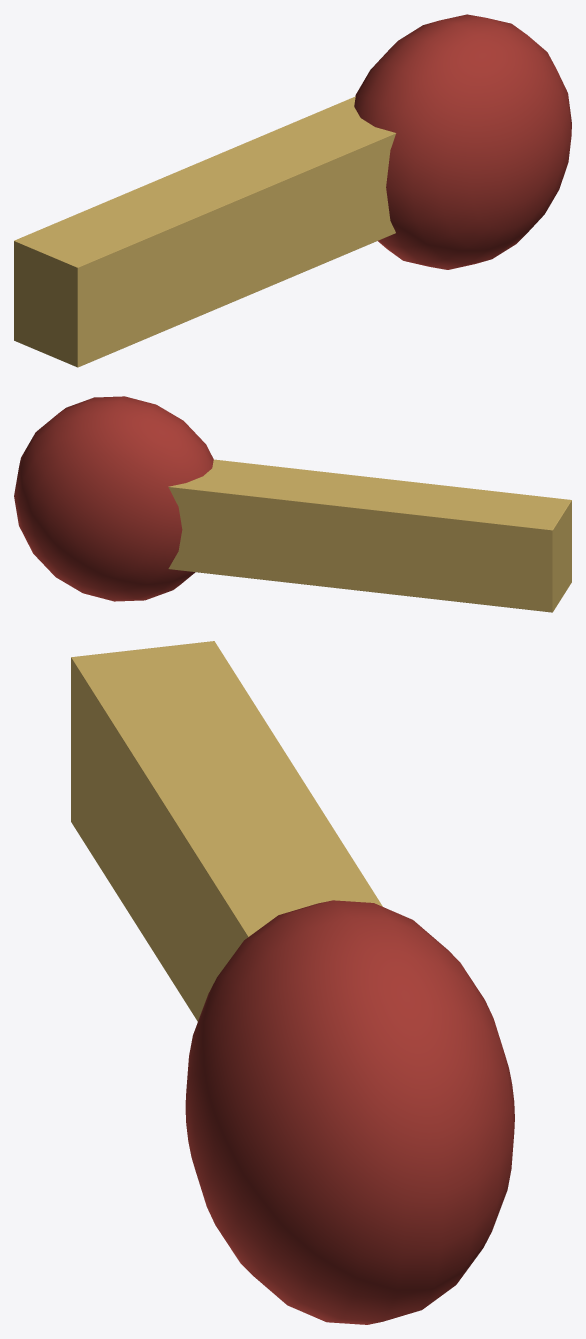
The model's file is wipe.glb.
The picture shows the model from 3 angles, top to bottom: view 1: azimuth 30°, elevation 25°; view 2: azimuth 150°, elevation 25°; view 3: azimuth 270°, elevation 25°; orthographic projection. The views are drawn at different scales.
Parts seen in each view (by area): view 1: log_wipe_shaft, log_wipe_knob; view 2: log_wipe_shaft, log_wipe_knob; view 3: log_wipe_knob, log_wipe_shaft.
Part boxes in pixels (<box>): log_wipe_shaft: <box>14,96,395,367</box>; log_wipe_knob: <box>354,14,571,269</box>; log_wipe_shaft: <box>168,459,571,612</box>; log_wipe_knob: <box>14,396,213,601</box>; log_wipe_knob: <box>185,900,514,1324</box>; log_wipe_shaft: <box>71,641,382,1021</box>.
Bounding box in the file's own units: 0.0686 × 0.026 × 0.0269.
